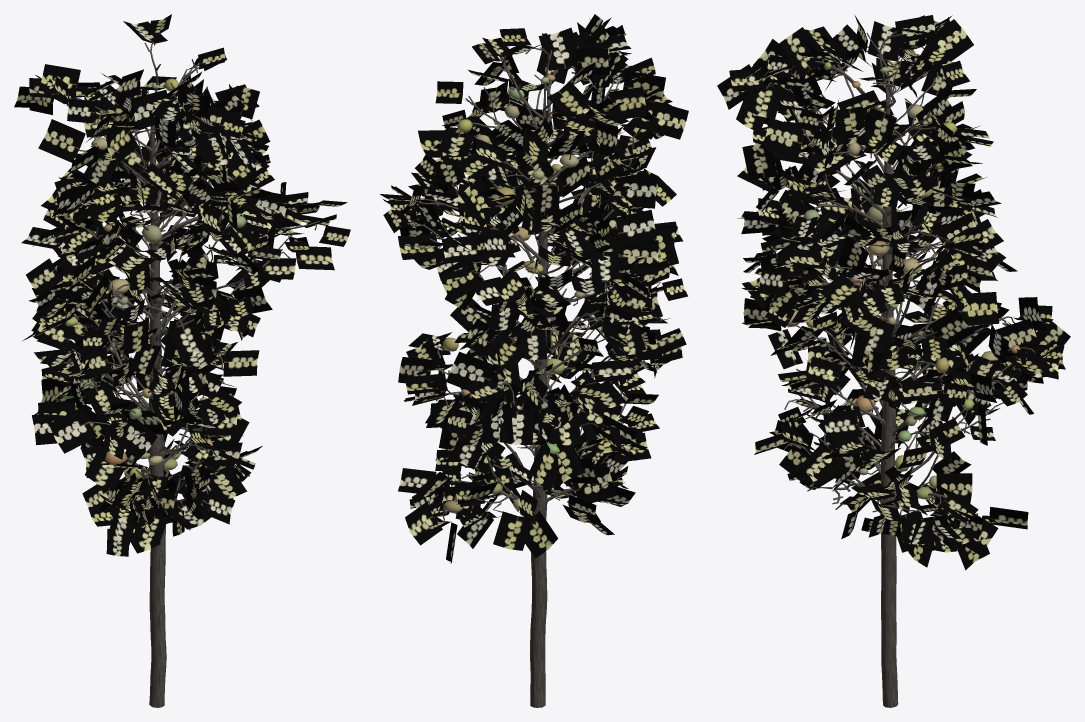
File: tree_04_ginkgo_young.glb
3 renders of one model, left to right at view 1: azimuth 30°, elevation 25°; view 2: azimuth 150°, elevation 25°; view 3: azimuth 270°, elevation 25°, orthographic.
Parts seen in each view (by area): view 1: tree_04_ginkgo_young.leaves, tree_04_ginkgo_young.trunk_branches, tree_04_ginkgo_young.foliage_volume; view 2: tree_04_ginkgo_young.leaves, tree_04_ginkgo_young.trunk_branches, tree_04_ginkgo_young.foliage_volume; view 3: tree_04_ginkgo_young.leaves, tree_04_ginkgo_young.trunk_branches, tree_04_ginkgo_young.foliage_volume.
Part boxes in pixels (x1,y1,x2,y2): tree_04_ginkgo_young.leaves: (14, 14, 350, 556); tree_04_ginkgo_young.trunk_branches: (58, 42, 320, 707); tree_04_ginkgo_young.foliage_volume: (58, 78, 253, 479); tree_04_ginkgo_young.leaves: (380, 14, 688, 563); tree_04_ginkgo_young.trunk_branches: (408, 47, 660, 707); tree_04_ginkgo_young.foliage_volume: (443, 74, 627, 512); tree_04_ginkgo_young.leaves: (717, 15, 1070, 570); tree_04_ginkgo_young.trunk_branches: (766, 31, 1035, 707); tree_04_ginkgo_young.foliage_volume: (786, 62, 1020, 499).
Size of the model in its own units: 6.15 by 14.31 by 6.68.
3 materials, 2 textured.
